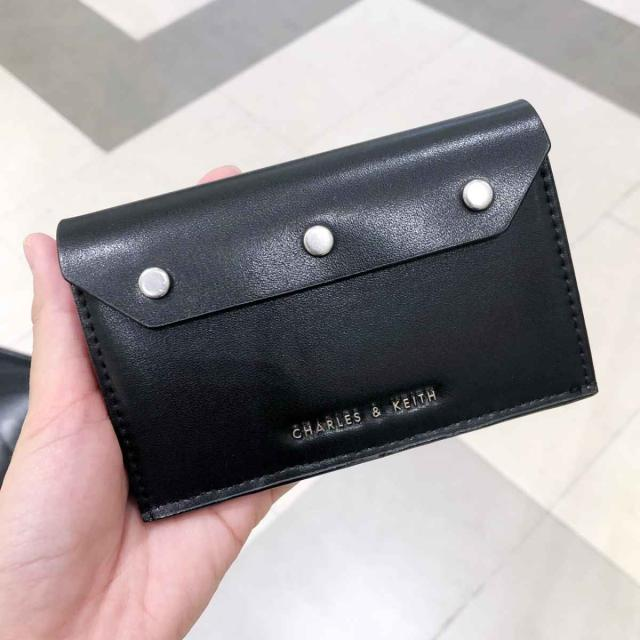Handbag: (56, 95, 599, 519)
